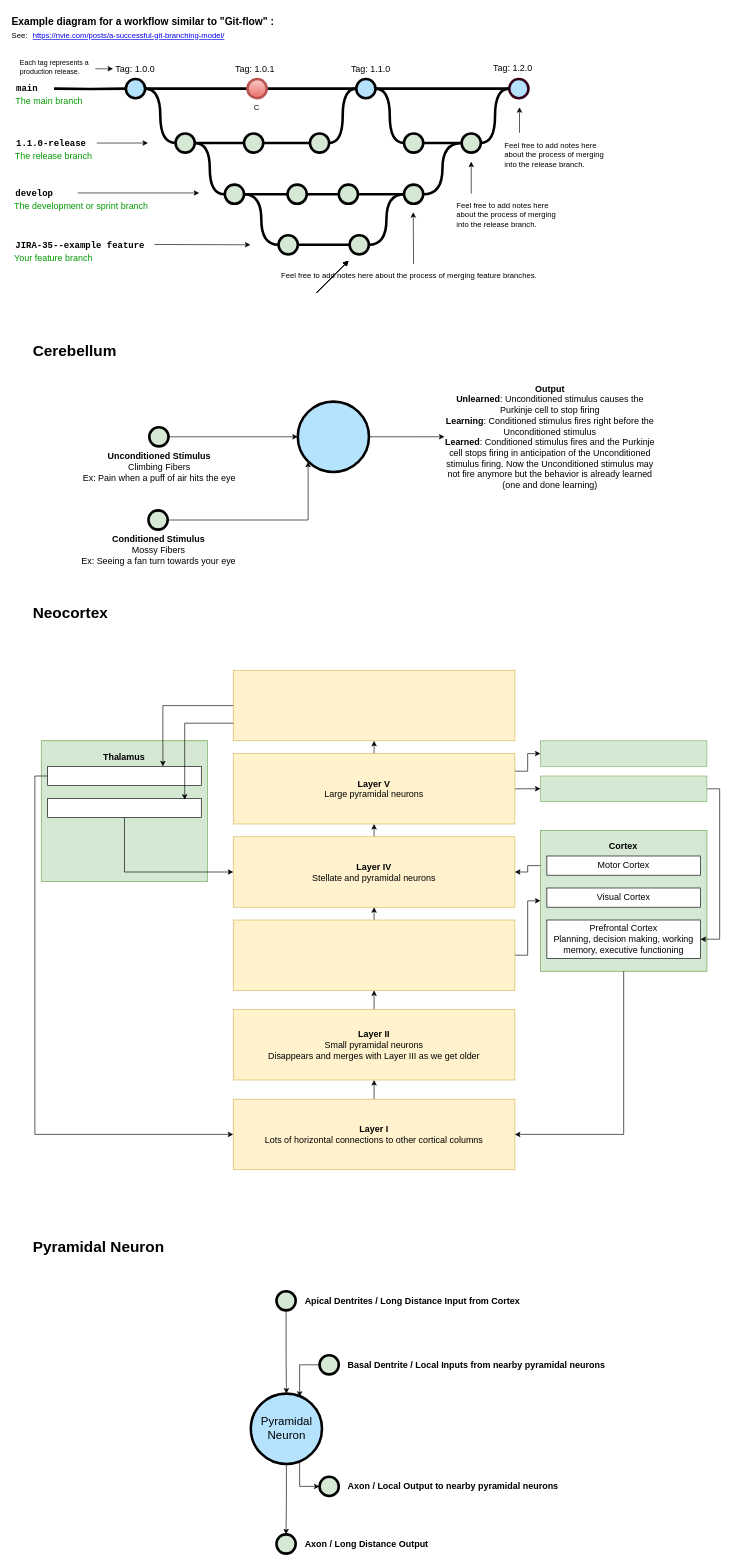
Some shapes in this 737 by 1565 pixel diagram are drawn without their labels. Each missing label, with the box of its shape:
Basal Ganglia: (540, 775, 707, 802)
C-type: (47, 798, 201, 818)
Layer III Small and medium pyramidal neurons: (233, 919, 515, 990)
Layer VI Few large and many small pyramidal neurons: (233, 670, 515, 741)
M-type: (47, 766, 201, 786)
Motor control outputs: (540, 740, 707, 766)
Purkinje Cell: (296, 400, 370, 473)
